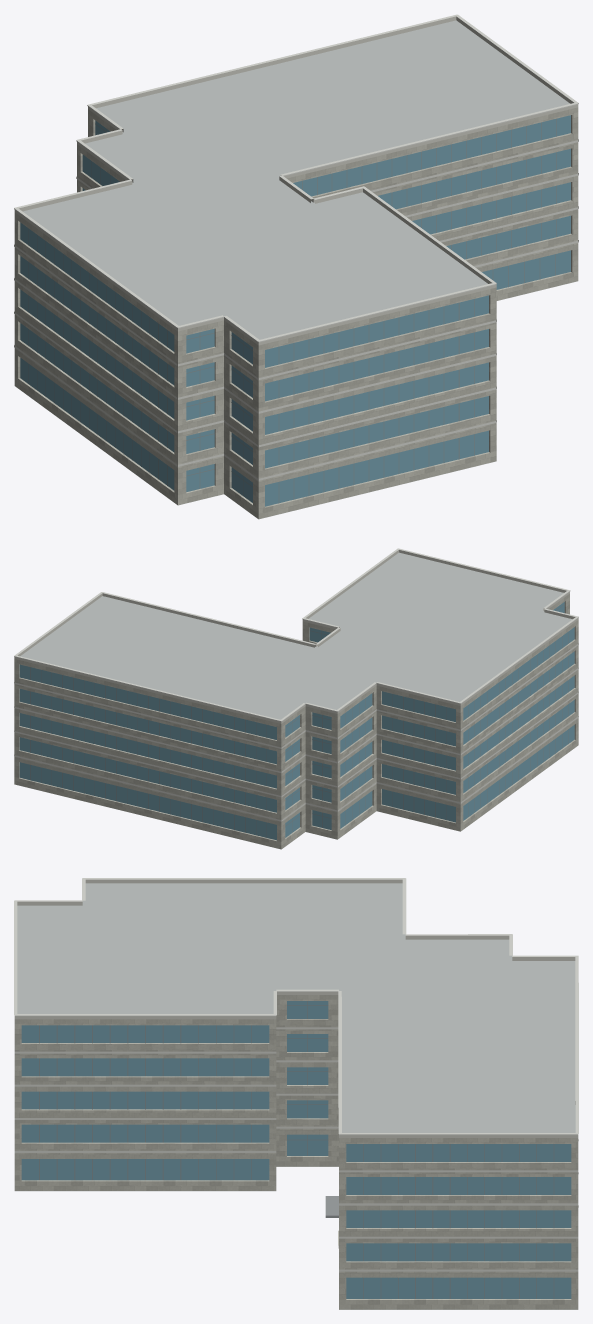
3 renders of one model, top to bottom at view 1: azimuth 30°, elevation 25°; view 2: azimuth 150°, elevation 25°; view 3: azimuth 270°, elevation 25°, orthographic. The views are drawn at different scales.
Parts seen in each view (by area): view 1: unist-batch-b103__parapet, b103__wall, b103__glass, b103__trim, b103__frame; view 2: unist-batch-b103__parapet, b103__wall, b103__glass, b103__trim, b103__frame; view 3: unist-batch-b103__parapet, b103__glass, b103__wall, b103__trim, b103__frame.
Part boxes in pixels (x1,y1,x2,y2): unist-batch-b103__parapet: [14, 16, 578, 519]; b103__wall: [14, 107, 578, 519]; b103__glass: [20, 115, 570, 506]; b103__trim: [14, 14, 578, 480]; b103__frame: [28, 118, 556, 503]; unist-batch-b103__parapet: [14, 550, 578, 849]; b103__wall: [14, 593, 578, 849]; b103__glass: [19, 602, 574, 840]; b103__trim: [14, 548, 578, 821]; b103__frame: [30, 604, 568, 837]; unist-batch-b103__parapet: [14, 879, 578, 1309]; b103__glass: [21, 1001, 571, 1298]; b103__wall: [14, 995, 578, 1309]; b103__trim: [14, 878, 578, 1271]; b103__frame: [39, 1001, 554, 1298].
Size of the model in its own units: 63.03 by 20.55 by 58.73.
7 materials, 1 textured.
